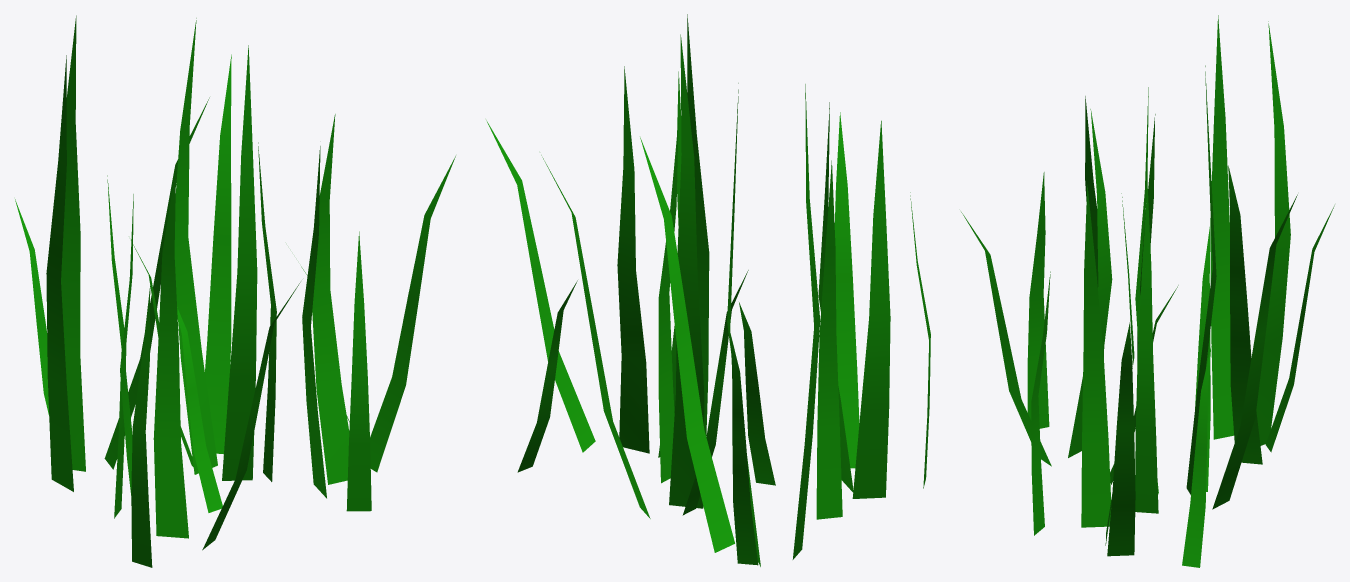
Rendered from grass.fbx.
3 views of the same model, side by side, from view 1: azimuth 30°, elevation 25°; view 2: azimuth 150°, elevation 25°; view 3: azimuth 270°, elevation 25° (orthographic). The views are drawn at different scales.
Parts seen in each view (by area): view 1: grass; view 2: grass; view 3: grass.
Boxes of the visible parts, bbox=[...] form: grass: bbox=[15, 15, 455, 567]; grass: bbox=[486, 14, 930, 566]; grass: bbox=[961, 15, 1334, 567].
Size of the model in its own units: 32.9 by 38.49 by 30.24.
